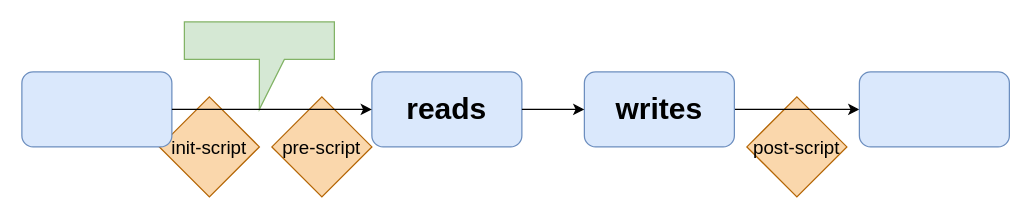
The diagram is 1031 pixels wide and 219 high, and some of its shapes have lost their labels. Here are the shapes that lost their labels. From the top down, the centre of each, then its label:
point (258, 65): client setup
point (96, 109): inputs
point (933, 109): output
